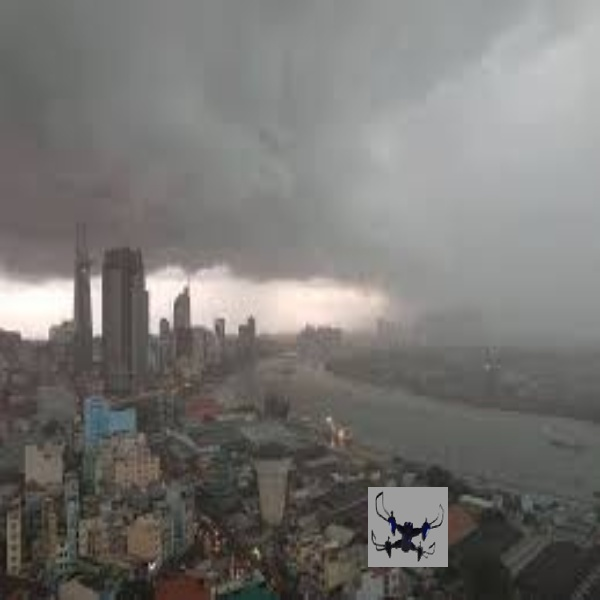drone: (369, 489, 447, 566)
